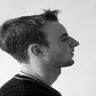ear: (24, 40, 51, 64)
